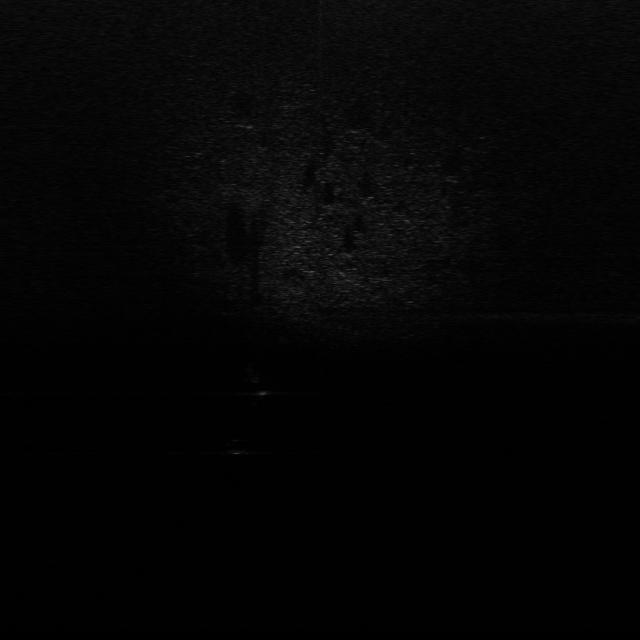ball: (223, 434, 251, 456)
human body: (242, 360, 273, 407)
